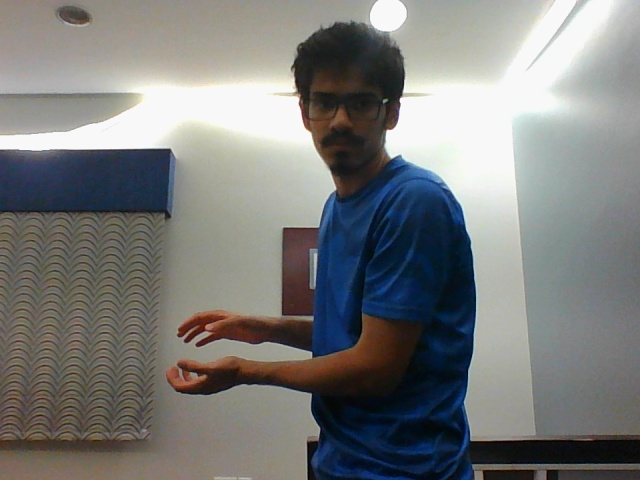charge: (164, 296, 264, 403)
